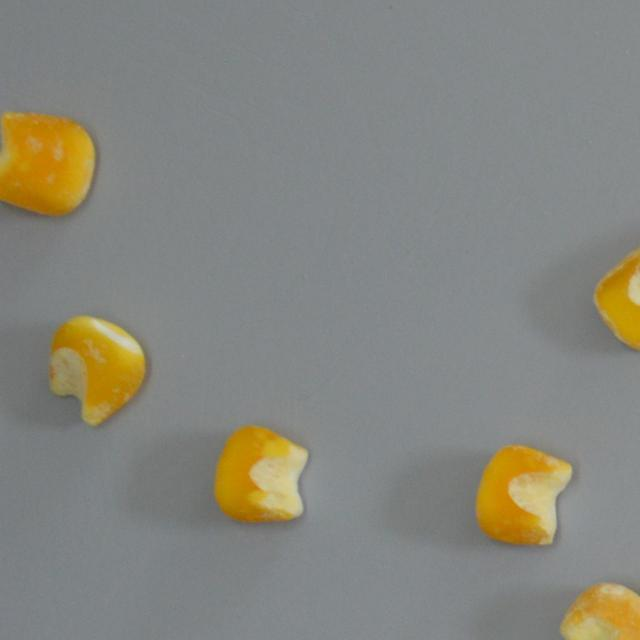dañado: (470, 437, 576, 554), (0, 104, 98, 220), (589, 228, 640, 350)
pelicula: (42, 310, 151, 430), (212, 420, 311, 526), (556, 578, 640, 640)
